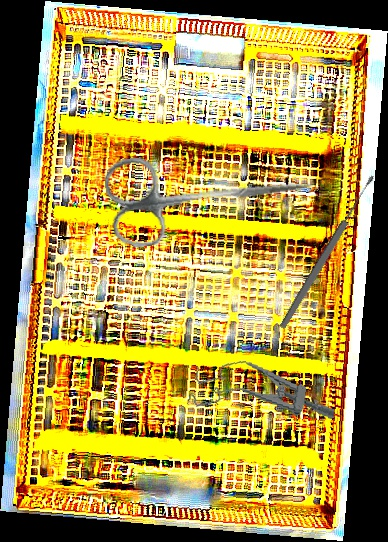Iris Scissors: (102, 136, 319, 251)
Speculum: (187, 352, 341, 431)
Surgical Spoon: (277, 172, 378, 332)
